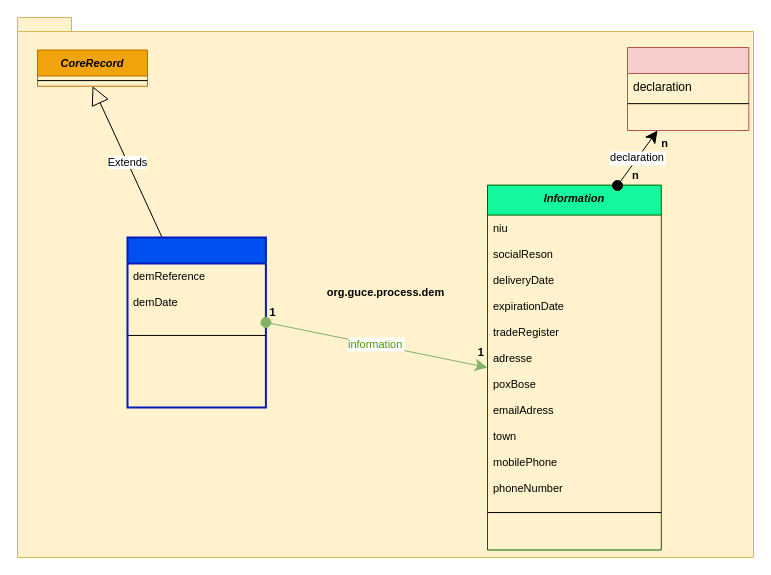
Image size: 771x575. Some labels were removed from this diagram. Here are the shapes that lost their labels. From the top down, the box of each, then its label:
(626, 46, 749, 130): DEMDeclaration
(126, 236, 266, 408): DEMRegistration
